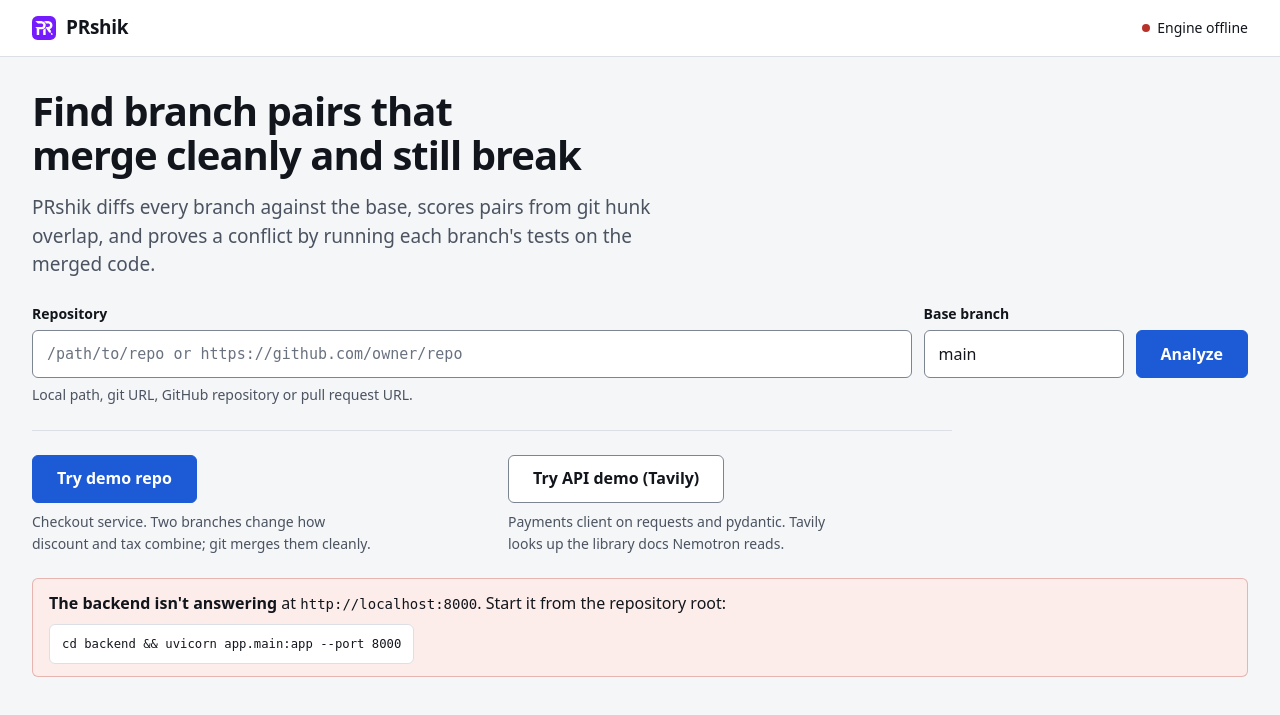
Test: App › tells the user to start the backend when it cannot be reached
This screenshot has width=1280, height=715.
Expected: the text "The backend isn't answering" is shown, [49,592,277,614]
Type "/tmp/repo" into the field labelled "Repository" at point(472, 354), box [32,330,912,378]
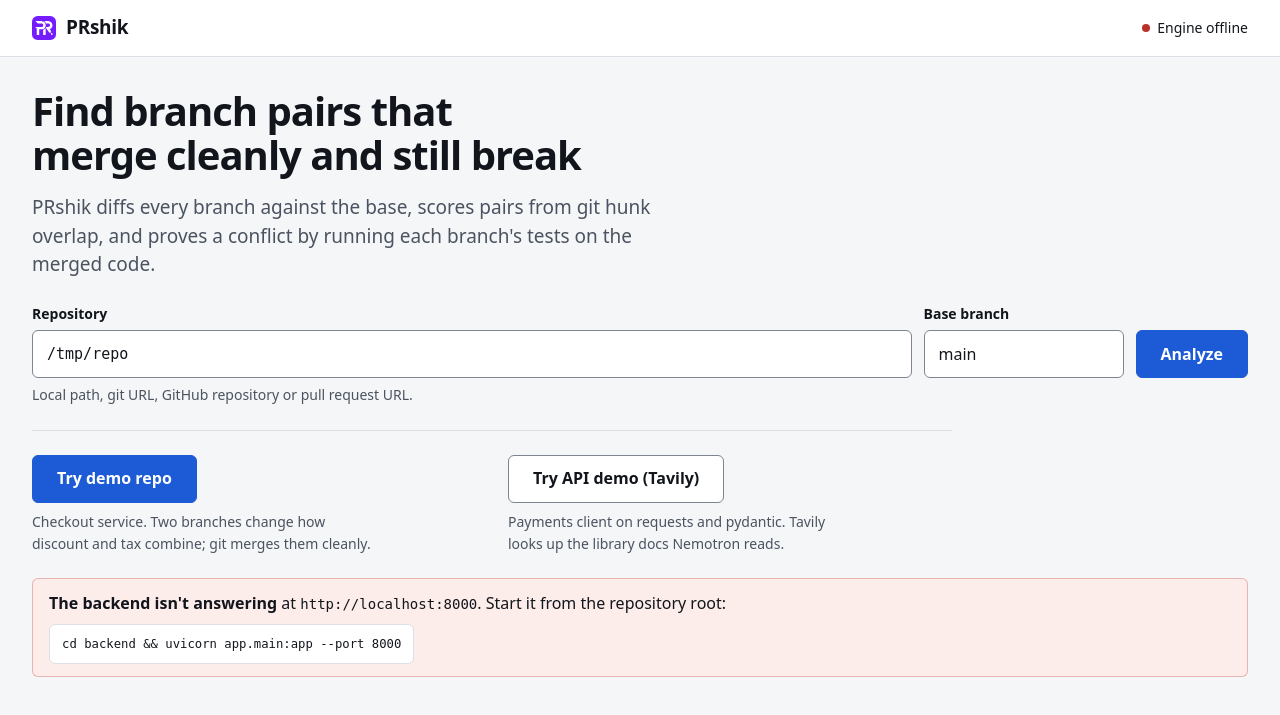
Click the button "Analyze" at point(1192, 354), box [1136,330,1248,378]
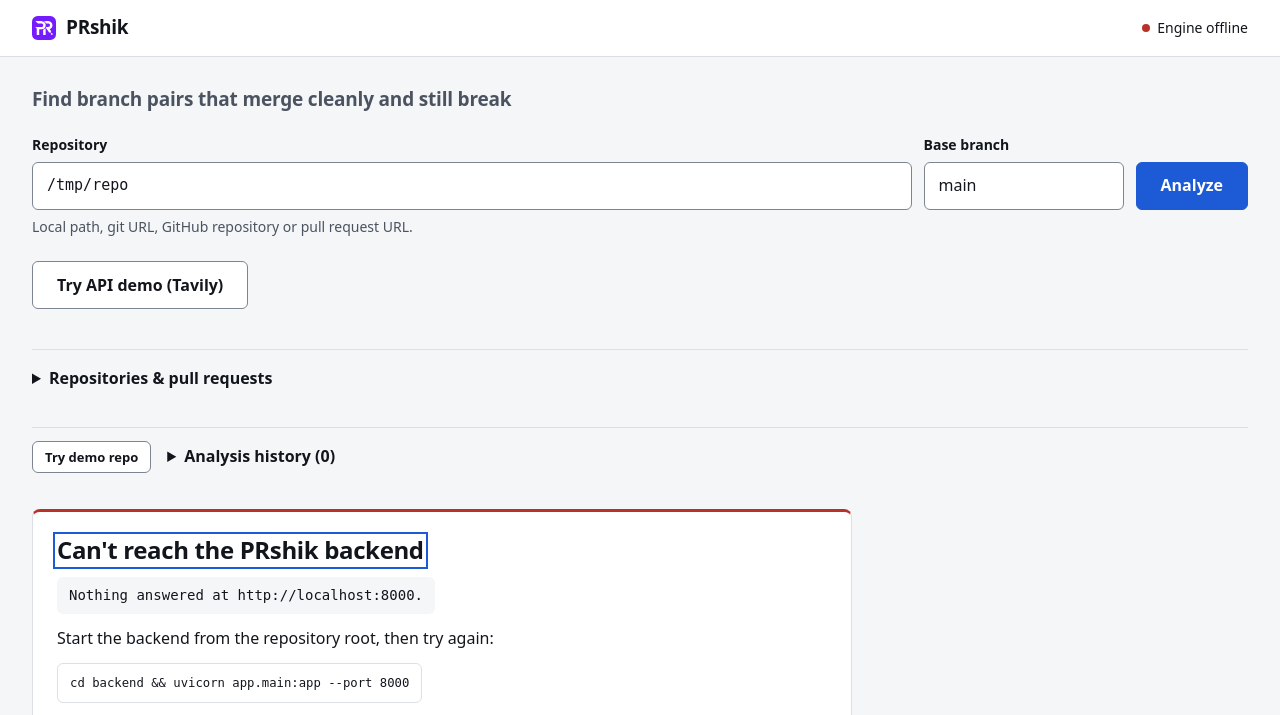
Expected: the element named "Command to run" shows "uvicorn app.main:app", [70,676,409,690]
Now the heading "Can't reach the PRshik backend" is shown, box [57,536,424,565]
